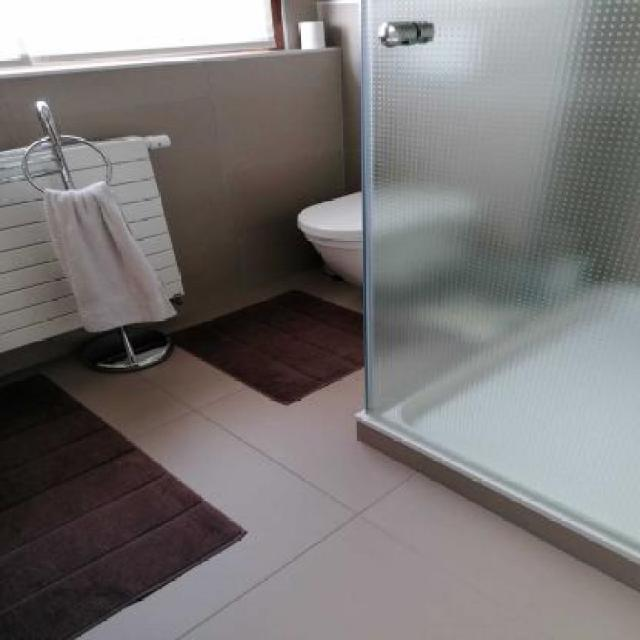Floor: (1, 346, 638, 640), (138, 266, 363, 334)
